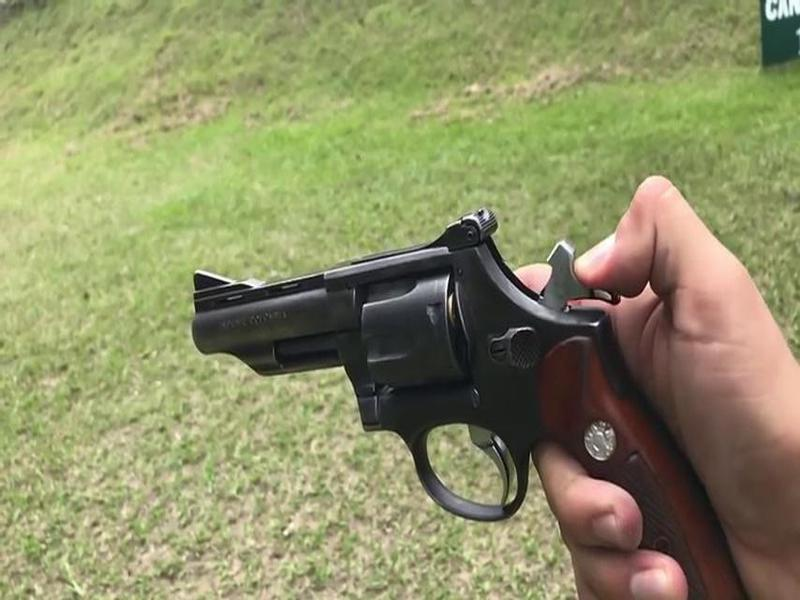Revolver: (159, 194, 709, 550)
